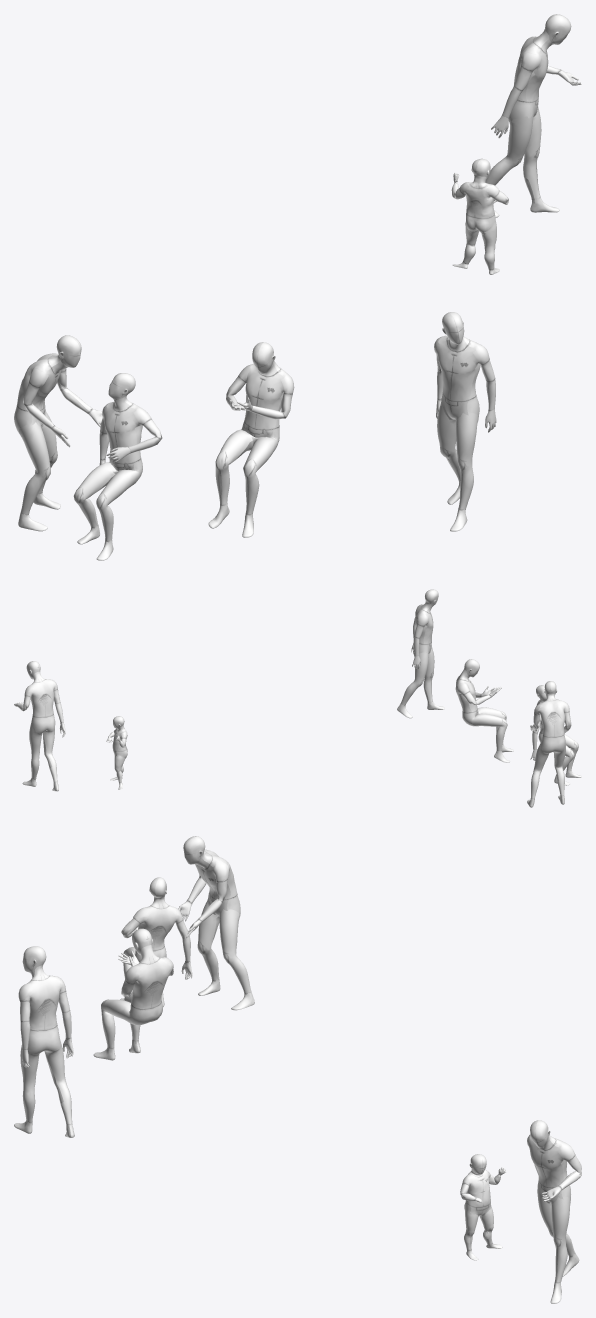
Rendered from FBXwithTextureAndCamera.fbx.
The picture shows the model from 3 angles, top to bottom: view 1: azimuth 30°, elevation 25°; view 2: azimuth 150°, elevation 25°; view 3: azimuth 270°, elevation 25°; orthographic projection. The views are drawn at different scales.
Visible parts, largest first — view 1: Male_11, Male_9, Male_12, Male_10, Male_13, Child_1; view 2: Male_13, Male_10, Male_11, Male_9, Male_12, Child_1; view 3: Male_11, Male_10, Male_13, Male_9, Male_12, Child_1.
Boxes of the visible parts, left/top/right/bottom form: Male_11: left=434, top=312, right=496, bottom=531; Male_9: left=208, top=342, right=294, bottom=537; Male_12: left=73, top=373, right=162, bottom=560; Male_10: left=14, top=335, right=102, bottom=531; Male_13: left=485, top=14, right=581, bottom=217; Child_1: left=451, top=158, right=508, bottom=274; Male_13: left=14, top=661, right=65, bottom=791; Male_10: left=527, top=681, right=571, bottom=807; Male_11: left=397, top=589, right=444, bottom=718; Male_9: left=455, top=659, right=513, bottom=762; Male_12: left=530, top=685, right=581, bottom=785; Child_1: left=106, top=716, right=127, bottom=789; Male_11: left=14, top=946, right=74, bottom=1137; Male_10: left=178, top=836, right=254, bottom=1010; Male_13: left=527, top=1120, right=581, bottom=1303; Male_9: left=93, top=928, right=173, bottom=1060; Male_12: left=120, top=877, right=192, bottom=1006; Child_1: left=460, top=1154, right=505, bottom=1260.
Size of what is drawn, in the model's own units: 5.66 by 1.53 by 4.22.
Materials: 2 (2 with a texture image).
